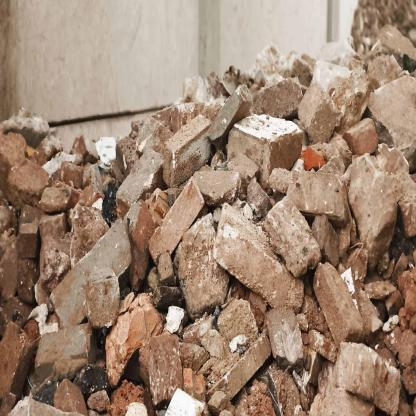brick: (0, 1, 416, 416)
